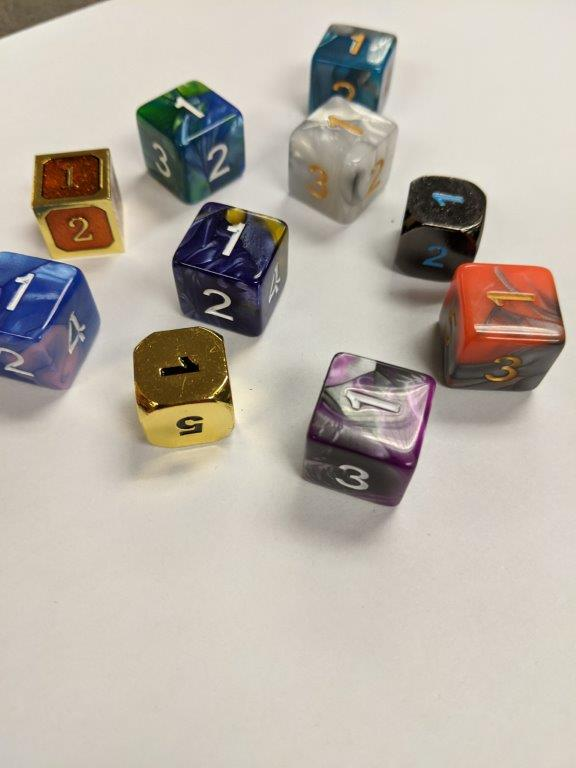d6-1: (297, 350, 437, 508), (436, 264, 567, 398), (171, 201, 292, 336), (1, 249, 103, 390), (284, 95, 397, 222), (135, 80, 248, 205), (132, 327, 238, 454), (31, 147, 128, 261), (391, 172, 484, 278), (310, 21, 395, 107)
